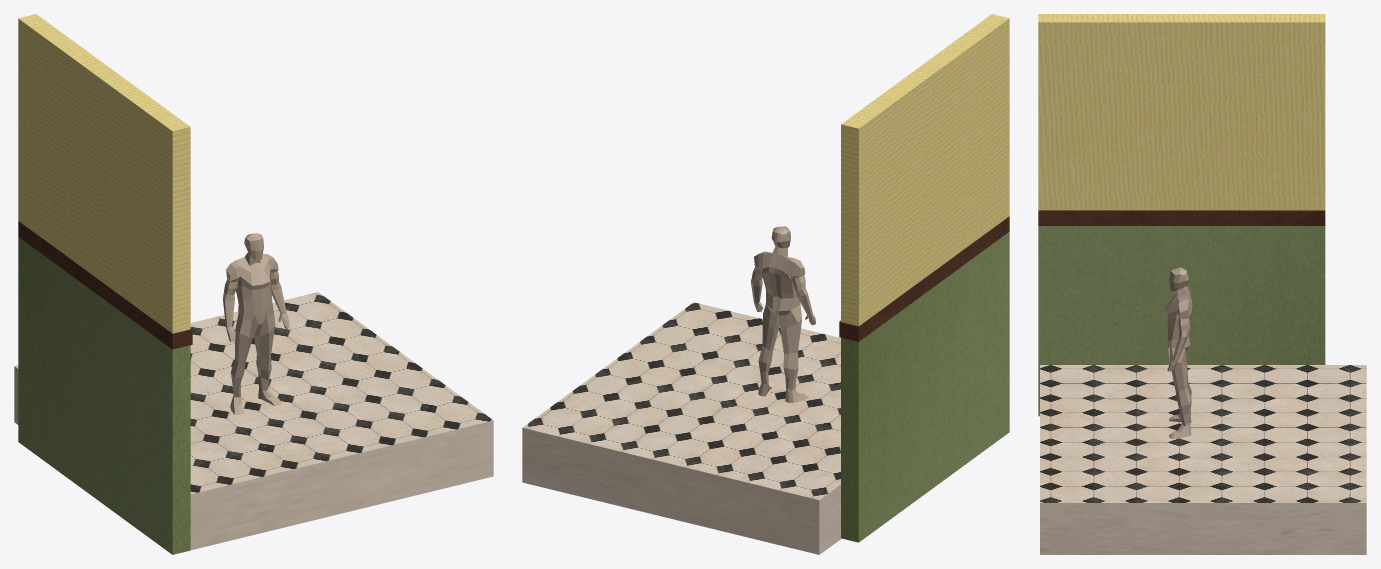
Rendered from tembok dan lantai .fbx.
The picture shows the model from 3 angles, left to right: view 1: azimuth 30°, elevation 25°; view 2: azimuth 150°, elevation 25°; view 3: azimuth 270°, elevation 25°; orthographic projection. The views are drawn at different scales.
Parts seen in each view (by area): view 1: Cube.001, Cube.002, Cube; view 2: Cube.001, Cube.002, Cube; view 3: Cube.001, Cube.002, Cube.
Boxes of the visible parts, x1,y1,x2,y2 form: Cube.001: (18, 14, 192, 554); Cube.002: (14, 292, 493, 550); Cube: (223, 233, 289, 414); Cube.001: (839, 14, 1009, 542); Cube.002: (522, 302, 841, 554); Cube: (750, 226, 816, 402); Cube.001: (1038, 14, 1325, 416); Cube.002: (1040, 365, 1366, 554); Cube: (1164, 267, 1192, 438).
Size of the model in its own units: 479 by 603 by 454.
Materials: 3 (2 with a texture image).
